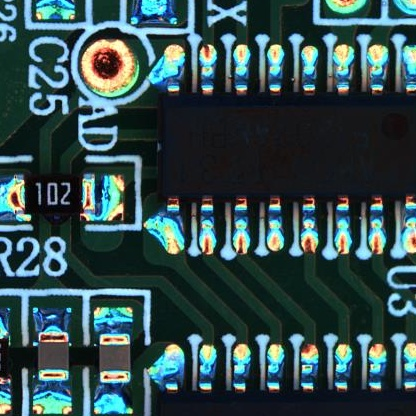spot: (82, 38, 139, 96)
